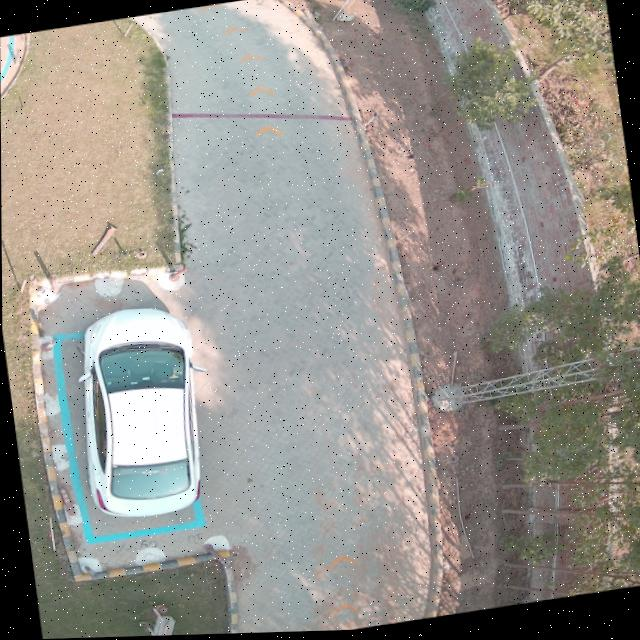car: (78, 308, 199, 518)
